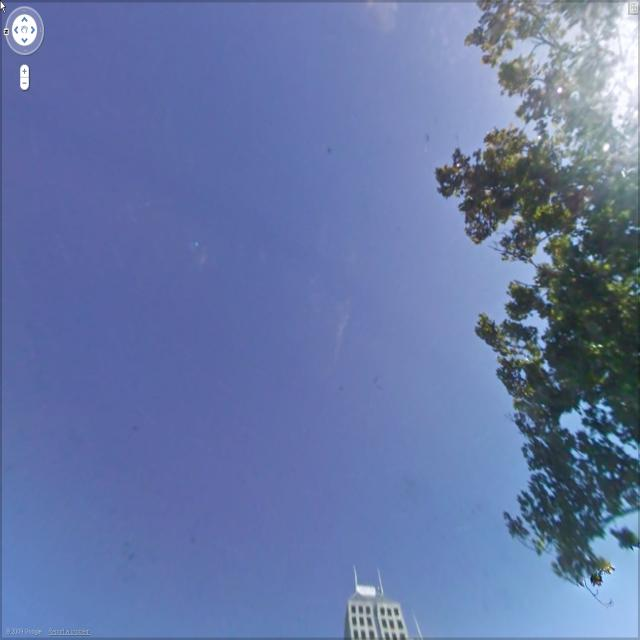b_1: (330, 553, 424, 636)
